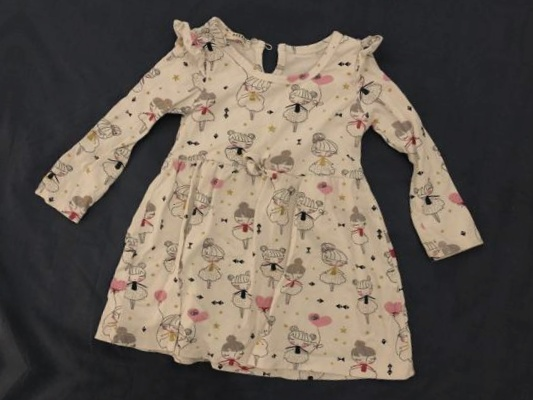Dress: (0, 0, 498, 400), (52, 0, 533, 24), (0, 378, 440, 400), (0, 0, 3, 344)
